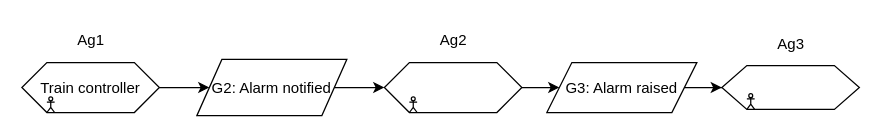
Some shapes in this 881 by 138 pixel diagram are drawn without their labels. The shapes that lost their labels are listed below. From the top down, each one's box as (x1, y1, x2, y2) in pixels, then its label:
(383, 61, 522, 112): Alarm transmitter
(721, 64, 859, 109): Passenger
